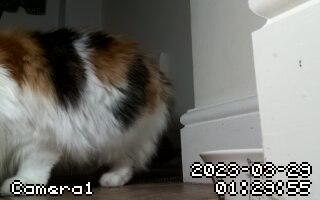clara: (1, 27, 173, 199)
